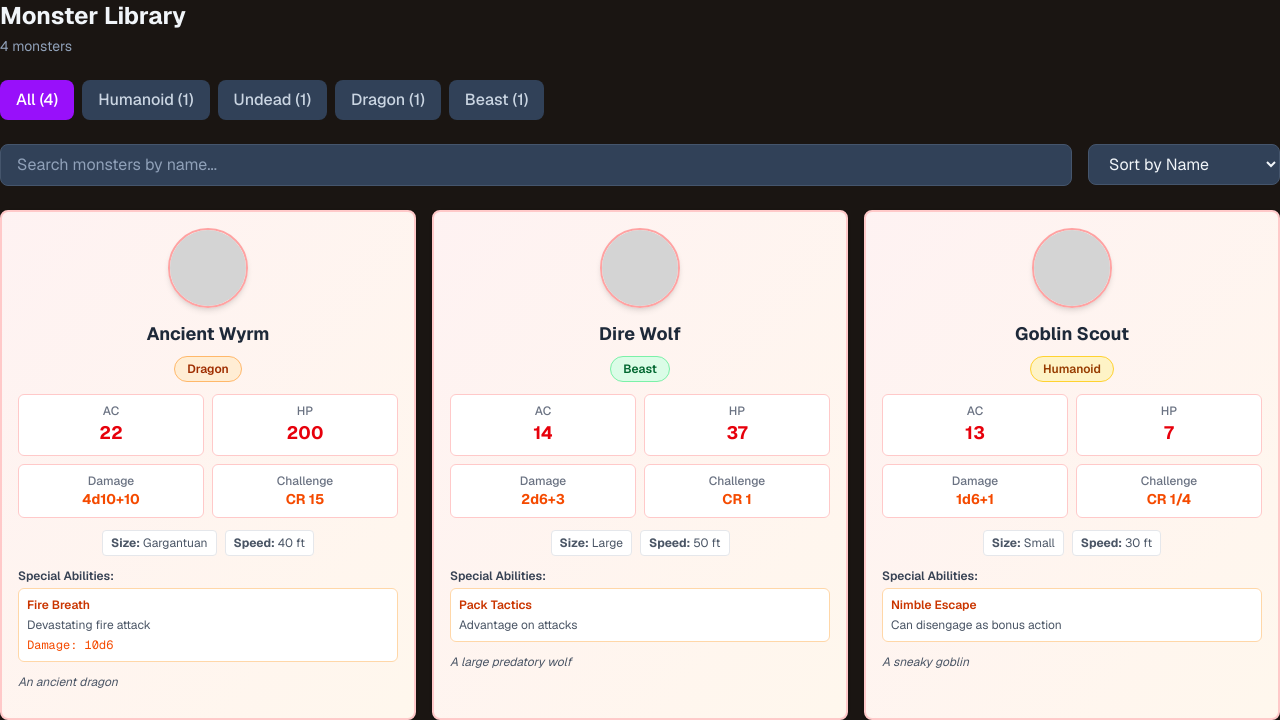
it: MonsterLibrary › Category Filtering › filters monsters by Humanoid category
Click the button with aria-label "filter by humanoid" at coordinates (146, 100), box left=82, top=80, right=210, bottom=120
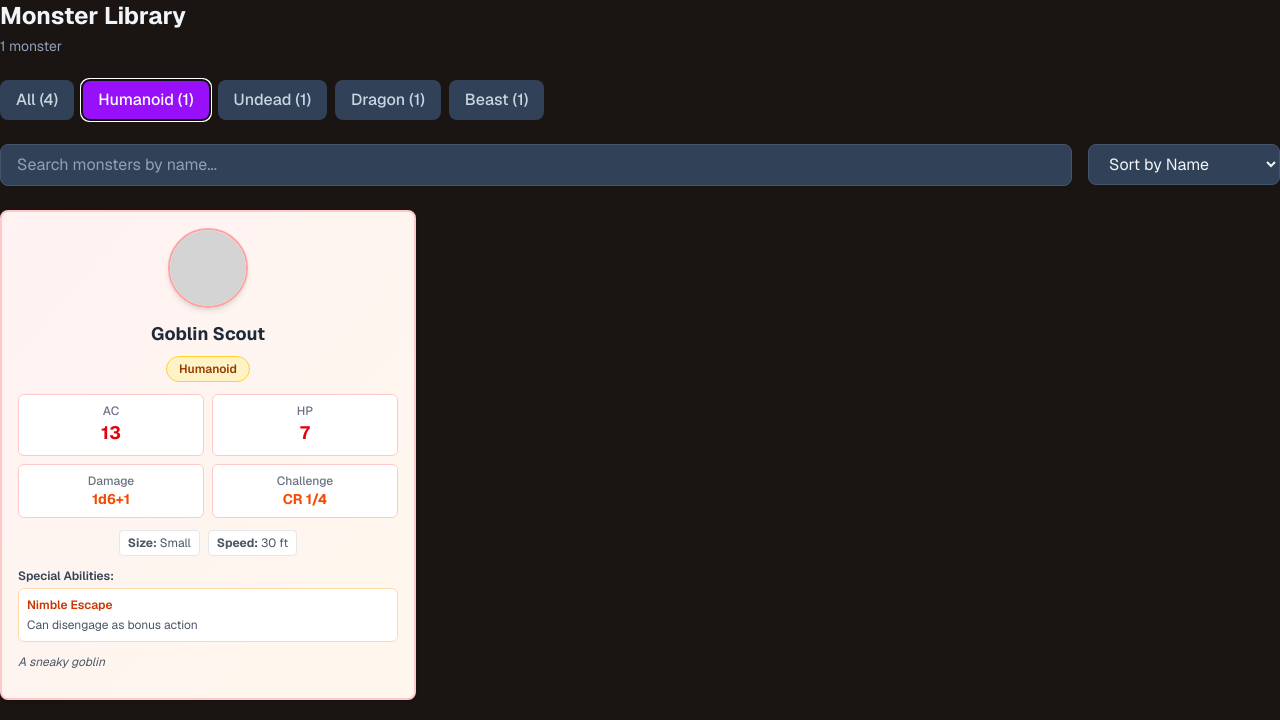
Check: the heading "Goblin Scout" is shown, box left=151, top=322, right=265, bottom=345
Check: the heading "Ancient Wyrm" is gone
Check: the text "1 monster" is shown, box left=0, top=37, right=62, bottom=55
